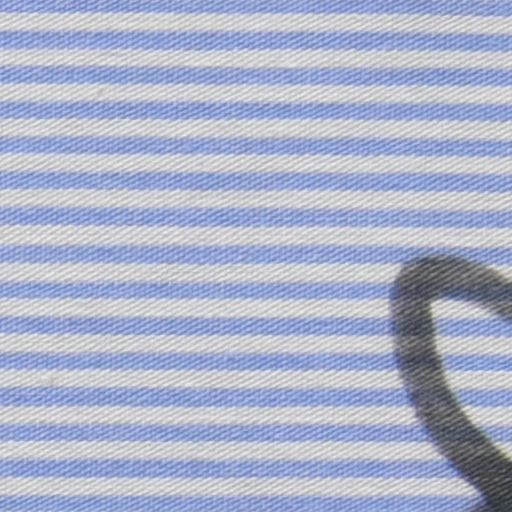defect: (383, 256, 512, 512)
